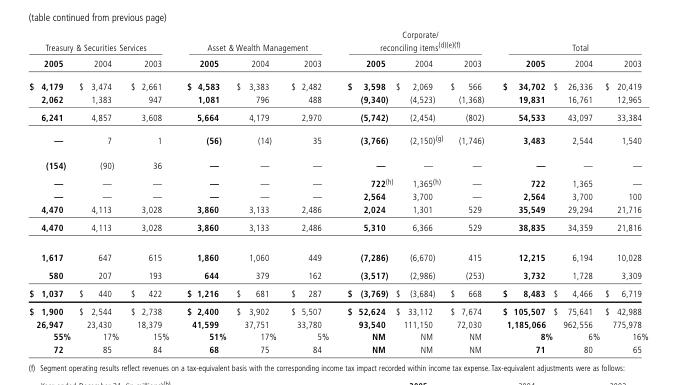table: (28, 28, 647, 354)
table column: (492, 28, 552, 354), (337, 28, 393, 354), (283, 28, 337, 354), (124, 28, 177, 354), (177, 28, 230, 354), (230, 28, 283, 354), (393, 28, 446, 354), (74, 28, 124, 354), (552, 28, 601, 354), (28, 28, 74, 354), (446, 28, 492, 354), (601, 28, 647, 354)
table column header: (28, 28, 647, 74)
table row: (28, 28, 647, 54), (28, 127, 647, 152), (28, 241, 647, 266), (28, 217, 647, 241), (28, 152, 647, 173), (28, 54, 647, 74), (28, 107, 647, 127), (28, 74, 647, 92), (28, 266, 647, 284), (28, 284, 647, 301), (28, 173, 647, 189), (28, 301, 647, 317), (28, 92, 647, 107), (28, 202, 647, 217), (28, 189, 647, 202), (28, 317, 647, 330), (28, 330, 647, 342), (28, 342, 647, 354)
table spanning cell: (177, 28, 337, 54), (337, 28, 492, 54), (492, 28, 647, 54), (28, 28, 177, 54)
